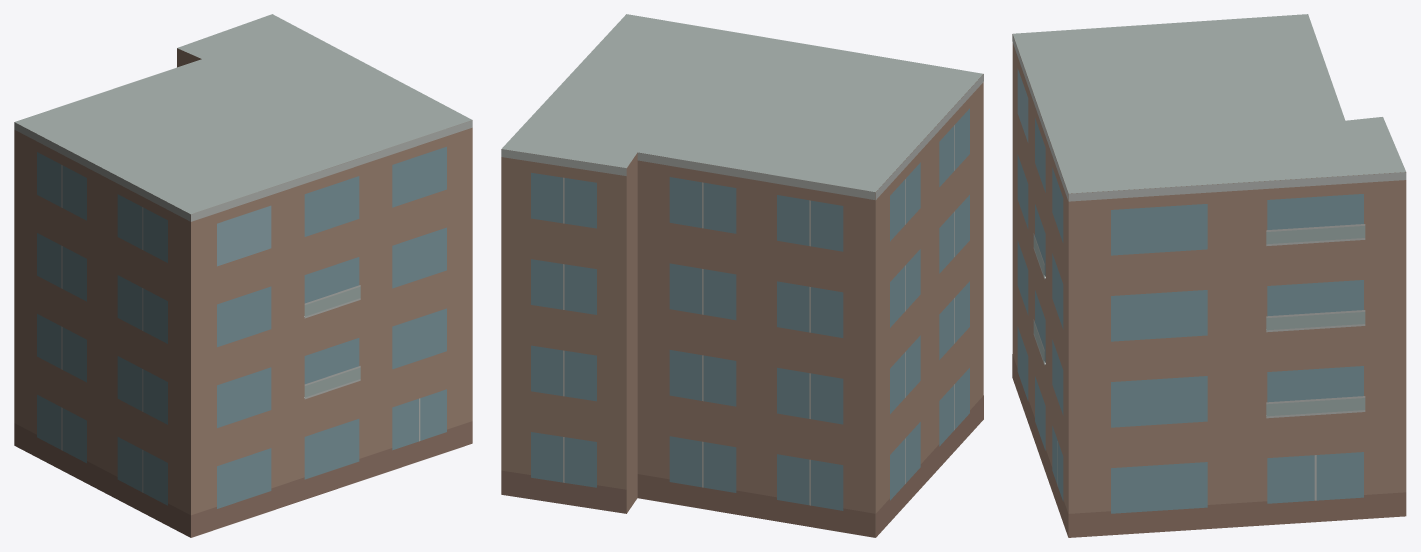
File: survey-upis-32576154.glb
3 renders of one model, left to right at view 1: azimuth 30°, elevation 25°; view 2: azimuth 150°, elevation 25°; view 3: azimuth 270°, elevation 25°, orthographic. The views are drawn at different scales.
Visible parts, largest first — view 1: survey-upis-32576154.tmp; view 2: survey-upis-32576154.tmp; view 3: survey-upis-32576154.tmp.
Boxes of the visible parts, x1,y1,x2,y2 form: survey-upis-32576154.tmp: (14, 14, 472, 537); survey-upis-32576154.tmp: (501, 14, 983, 537); survey-upis-32576154.tmp: (1012, 14, 1406, 537).
Size of the model in its own units: 11.76 by 10.5 by 10.89.
